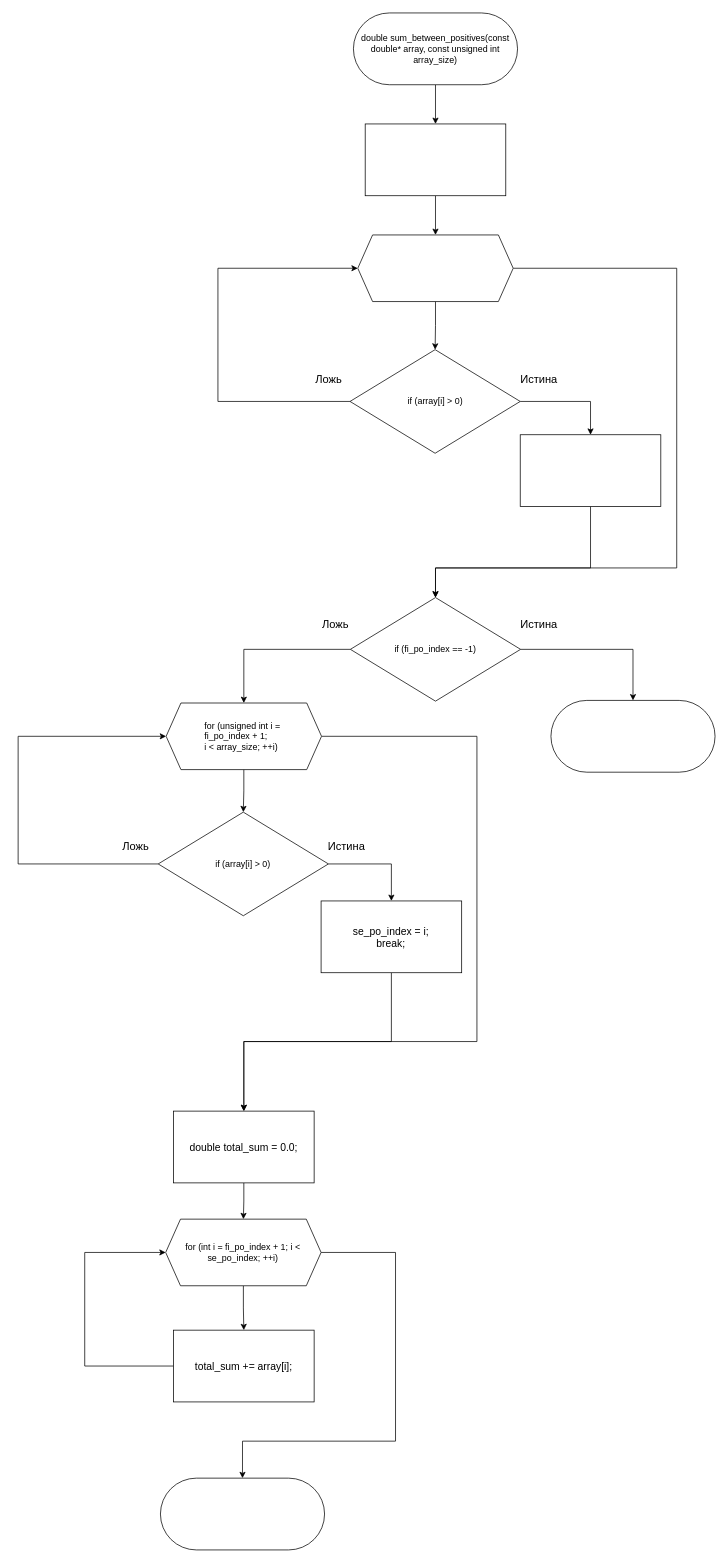
The diagram is 728 pixels wide and 1563 high, and some of its shapes have lost their labels. Each missing label, with the box of its shape:
fi_po_index = i; break;: (519, 434, 661, 507)
for (unsigned int i = 0; i < array_size; ++i): (357, 234, 513, 302)
int fi_po_index = -1; int se_po_index = -1;: (364, 123, 506, 196)
return 0.0;: (550, 700, 715, 772)
return total_sum;: (160, 1477, 325, 1550)
